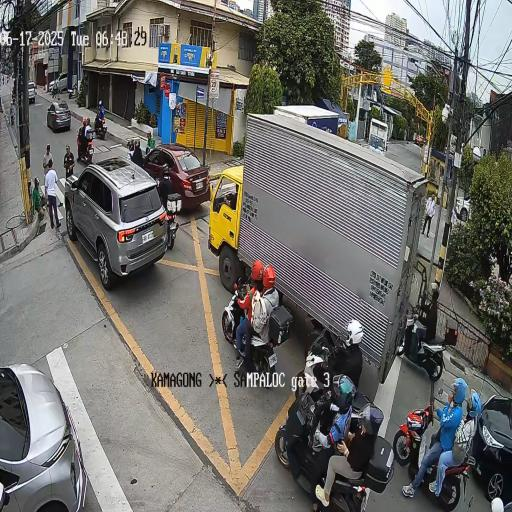Car: (201, 93, 401, 382), (0, 314, 107, 512), (54, 149, 179, 271), (141, 126, 222, 220), (477, 364, 512, 512), (42, 95, 72, 133)
Motor: (284, 360, 402, 489), (206, 248, 295, 370), (403, 364, 475, 498), (390, 266, 462, 366), (303, 294, 368, 394), (68, 113, 104, 164), (90, 92, 111, 138)
